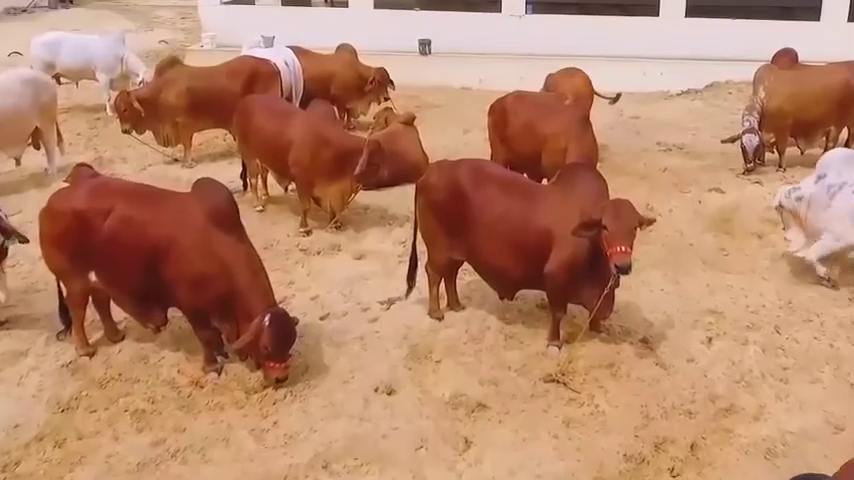bo: (37, 163, 304, 391), (401, 144, 656, 358), (222, 81, 383, 241), (102, 50, 300, 165), (724, 36, 854, 178), (476, 77, 594, 189), (768, 140, 854, 284), (20, 22, 153, 109), (293, 35, 393, 117), (1, 64, 67, 185), (241, 25, 310, 107), (355, 99, 418, 179), (534, 55, 604, 125)
